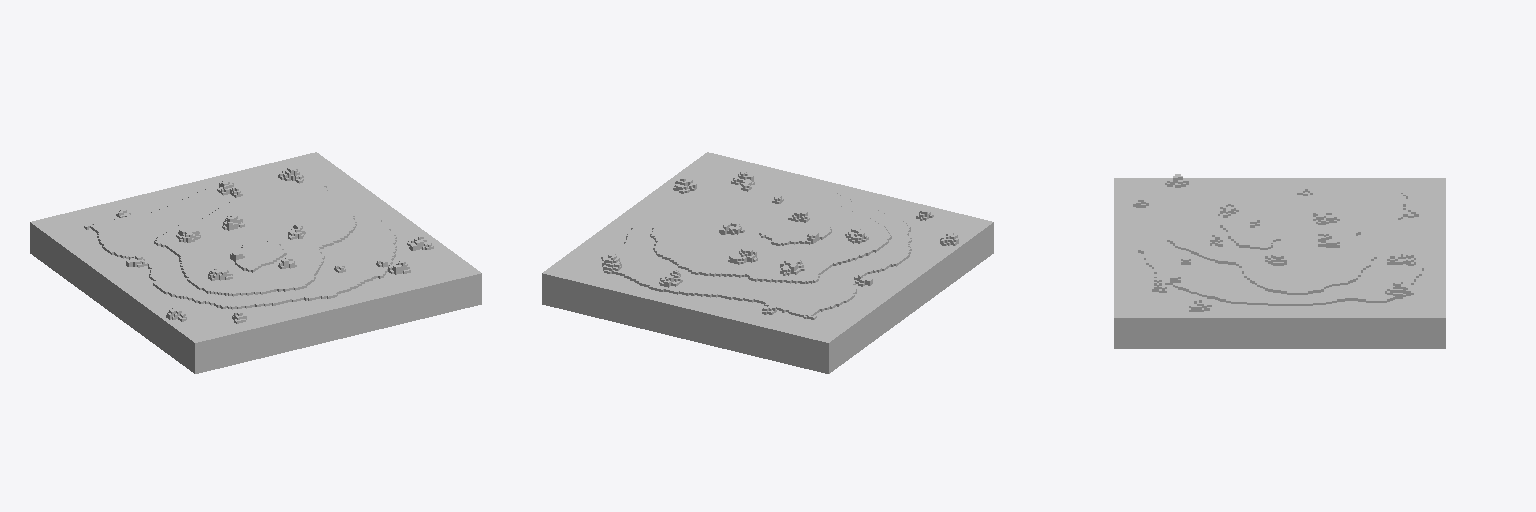
File: Map (23).obj
The picture shows the model from 3 angles: view 1: azimuth 30°, elevation 25°; view 2: azimuth 150°, elevation 25°; view 3: azimuth 270°, elevation 25°; orthographic projection.
Visible parts, largest first — view 1: ALL MAP!!!!!!!!!!!-20; view 2: ALL MAP!!!!!!!!!!!-20; view 3: ALL MAP!!!!!!!!!!!-20.
Part boxes in pixels (x1,y1,x2,y2): ALL MAP!!!!!!!!!!!-20: (30, 152, 481, 373); ALL MAP!!!!!!!!!!!-20: (542, 152, 993, 373); ALL MAP!!!!!!!!!!!-20: (1114, 174, 1445, 348).
Bounding box in the file's own units: 125 × 19 × 125.